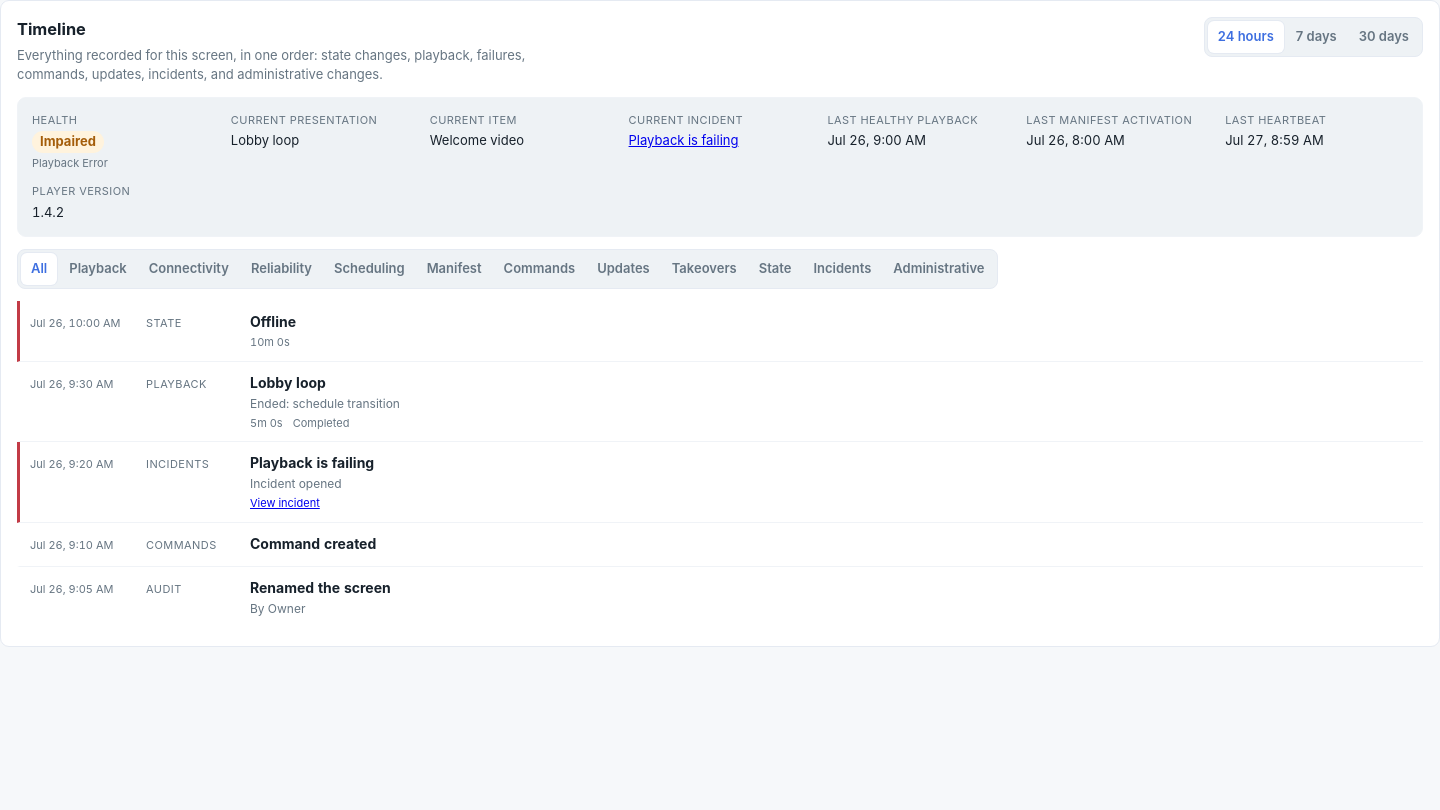
screen timeline › filters by domain through the server, not in the browser
Check: the text "Renamed the screen" is shown, box [250, 579, 391, 596]
Click the button "Commands".
click(539, 269)  # box [494, 253, 585, 285]
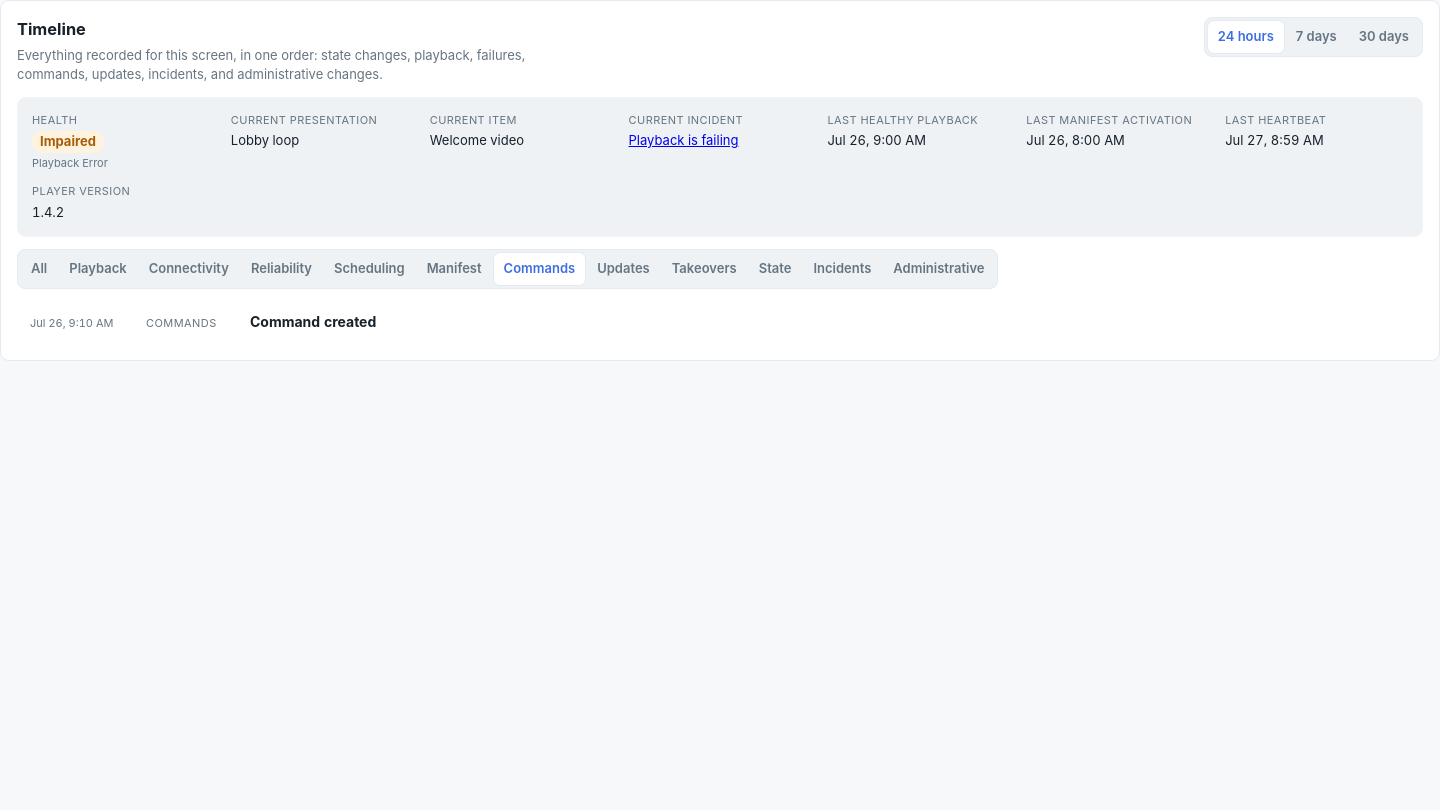
Check: the text "Command created" is shown, box [250, 313, 376, 330]
Check: the text "Renamed the screen" is gone
